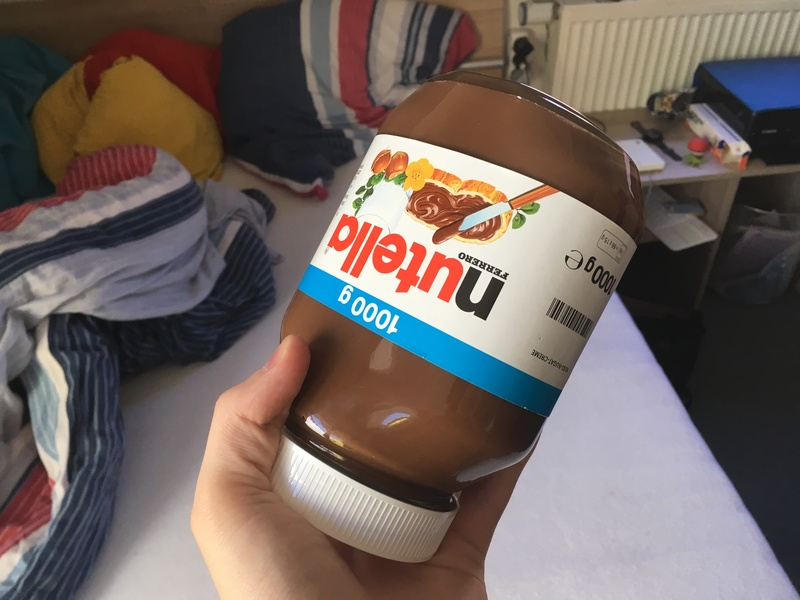nutella: (267, 70, 644, 563)
